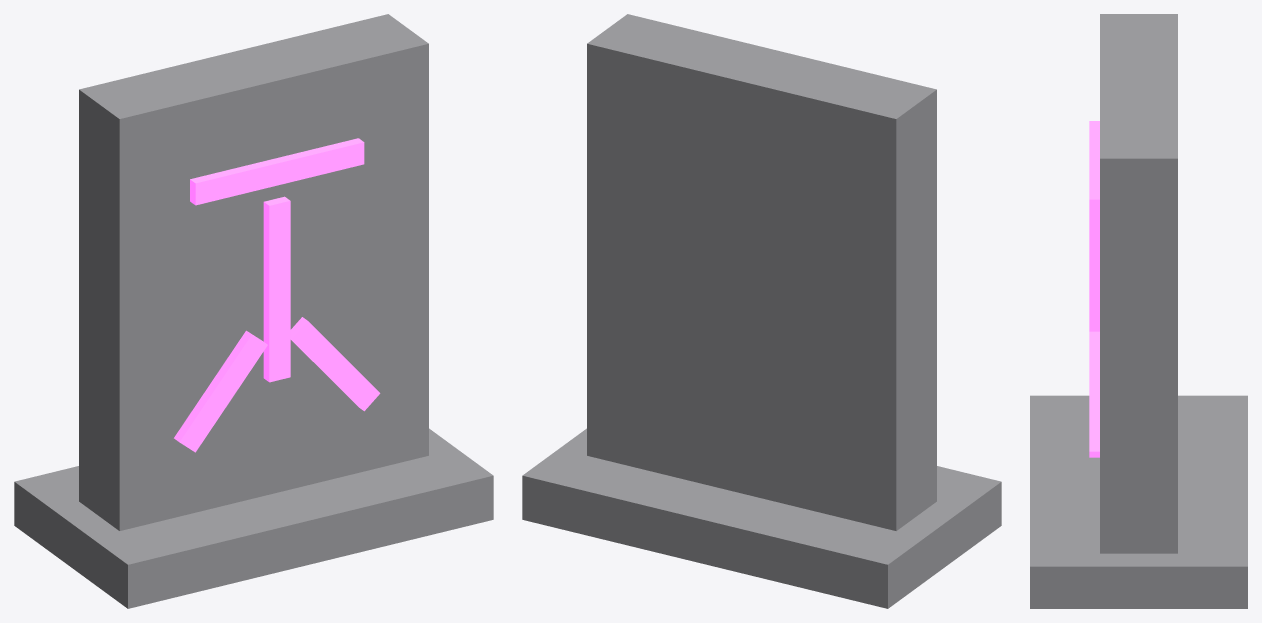
File: std_rune_tablet.glb
3 views of the same model, side by side, from view 1: azimuth 30°, elevation 25°; view 2: azimuth 150°, elevation 25°; view 3: azimuth 270°, elevation 25° (orthographic). The views are drawn at different scales.
Visible parts, largest first — view 1: std_rune_tablet; view 2: std_rune_tablet; view 3: std_rune_tablet.
Part boxes in pixels (x1=…): std_rune_tablet: x1=14, y1=14, x2=493, y2=608; std_rune_tablet: x1=522, y1=14, x2=1001, y2=608; std_rune_tablet: x1=1030, y1=14, x2=1247, y2=608.
Bounding box in the file's own units: 0.26 × 0.31 × 0.14.
